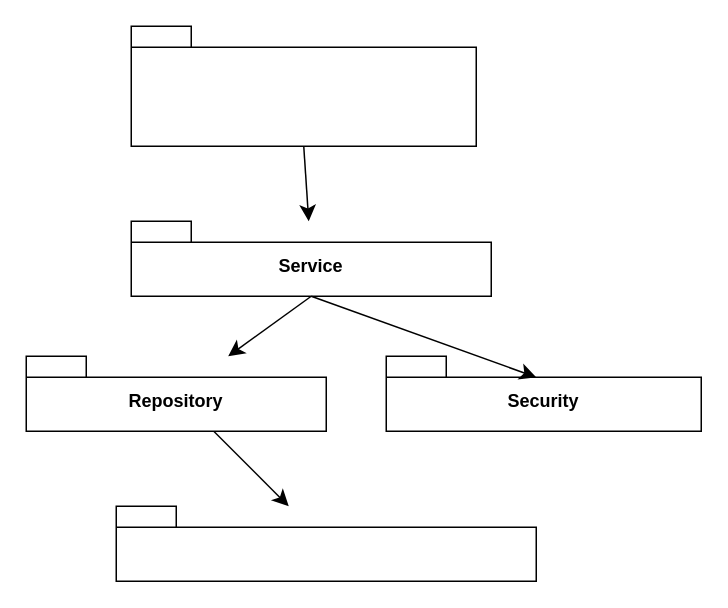
Some shapes in this 728 by 608 pixel diagram are drawn without their labels. The shapes that lost their labels are listed below. From the top down, each one's box as (x1, y1, x2, y2) in pixels, then its label:
(130, 25, 476, 146): Controller
(115, 505, 536, 581): Model
